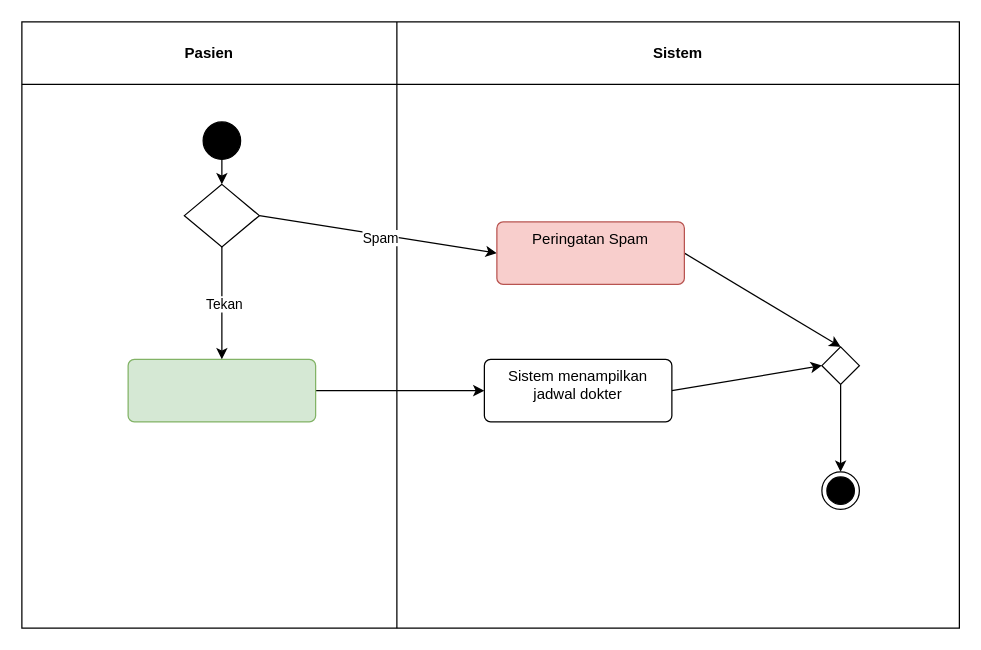
Image size: 981x650. Some labels were removed from this diagram. Here are the shapes that lost their labels. From the top down, the box of each, then its label:
(183, 183, 259, 247): Tekan?
(127, 358, 316, 422): Pasien mengakses Menu jadwal dokter
